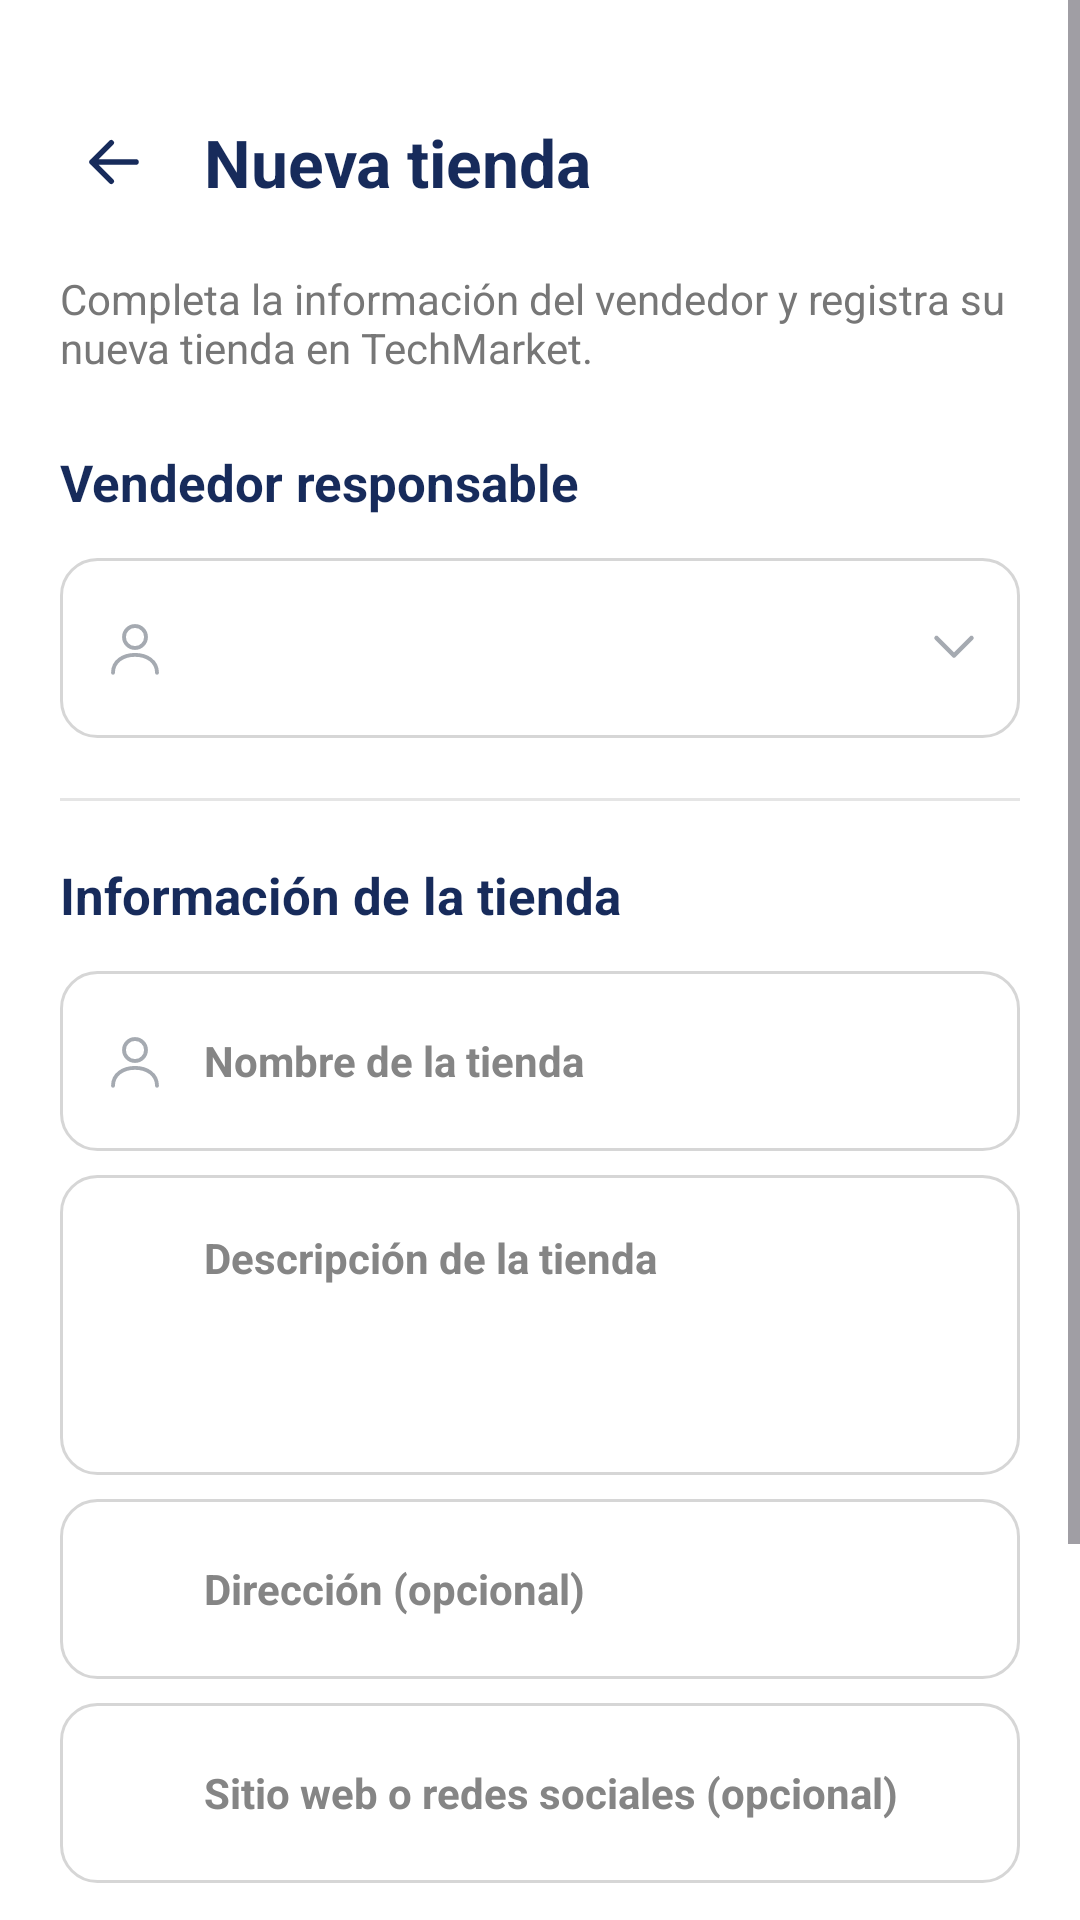

Named icons in this screenshot (1080×1920) and their bounding boxes, (x1, y1, x2, y2):
Desplegar: (934, 636, 974, 658)
Volver: (89, 139, 139, 185)
